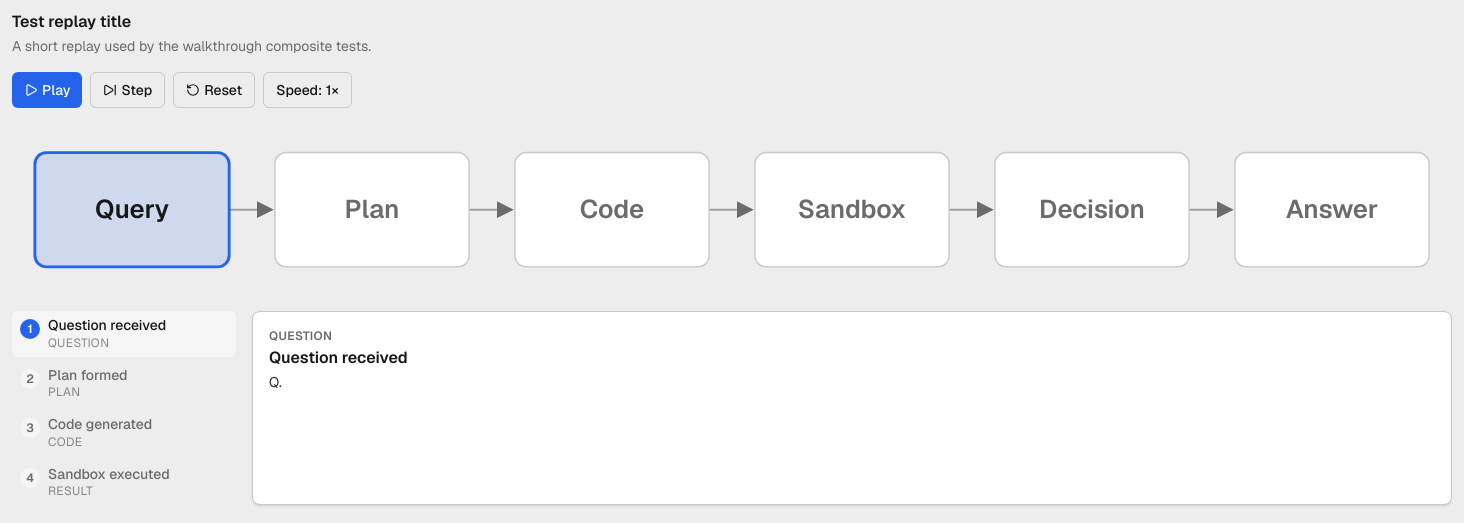
Test: ReplayWalkthrough › clicking a step in the list updates the detail pane and the diagram
Expected: the picture named "active node: Query" is shown, [12,124,1452,295]
Click the button "3 Code generated code": [124, 433] box [12,410,236,456]
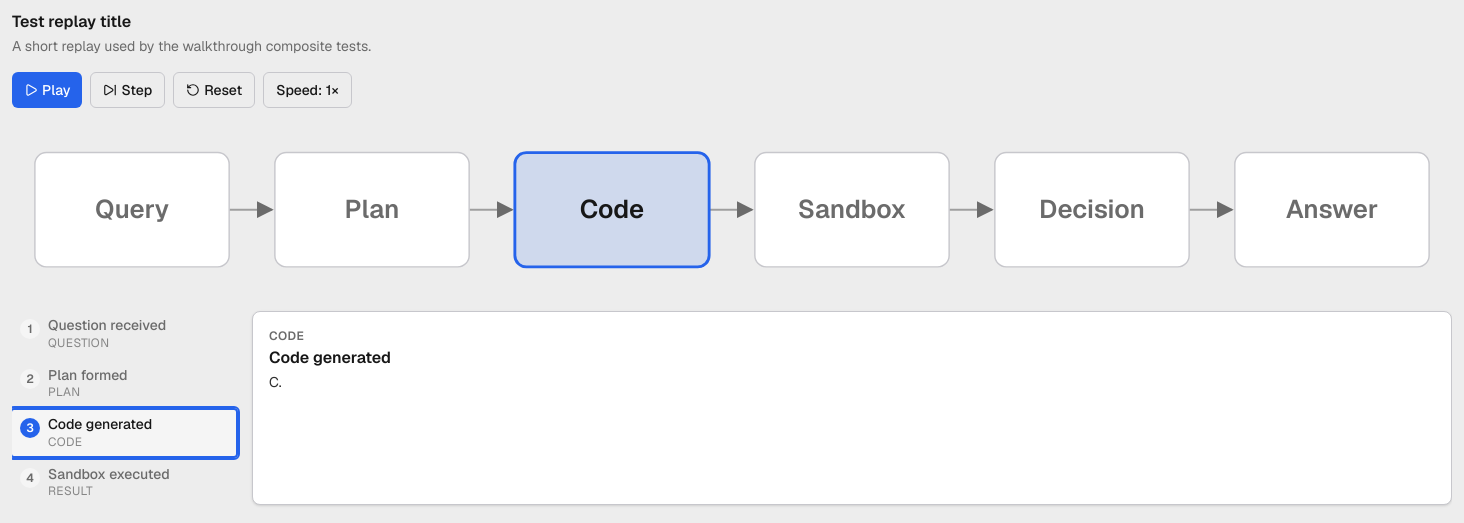
Expected: the picture named "active node: Code" is shown, [12,124,1452,295]
